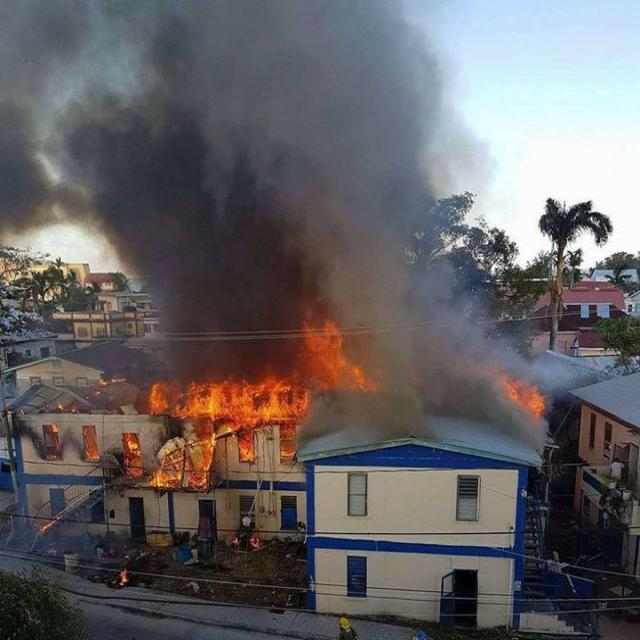Fire: (106, 340, 429, 486)
